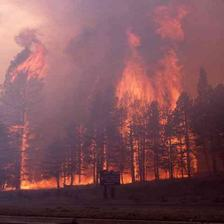fire: (118, 5, 199, 115), (118, 121, 205, 182), (1, 169, 132, 191), (11, 33, 56, 85), (8, 118, 27, 190), (76, 124, 86, 173)
